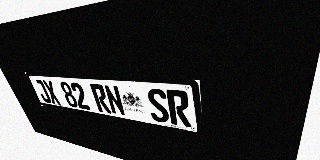2: (69, 82, 90, 110)
8: (58, 81, 79, 108)
J: (33, 79, 52, 103)
N: (103, 85, 126, 116)
R: (166, 89, 191, 127), (89, 84, 112, 114)
S: (145, 88, 170, 124)
X: (42, 80, 61, 105)
